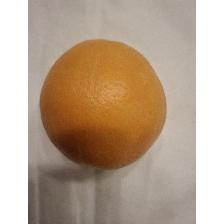Orange: (37, 38, 168, 172)
